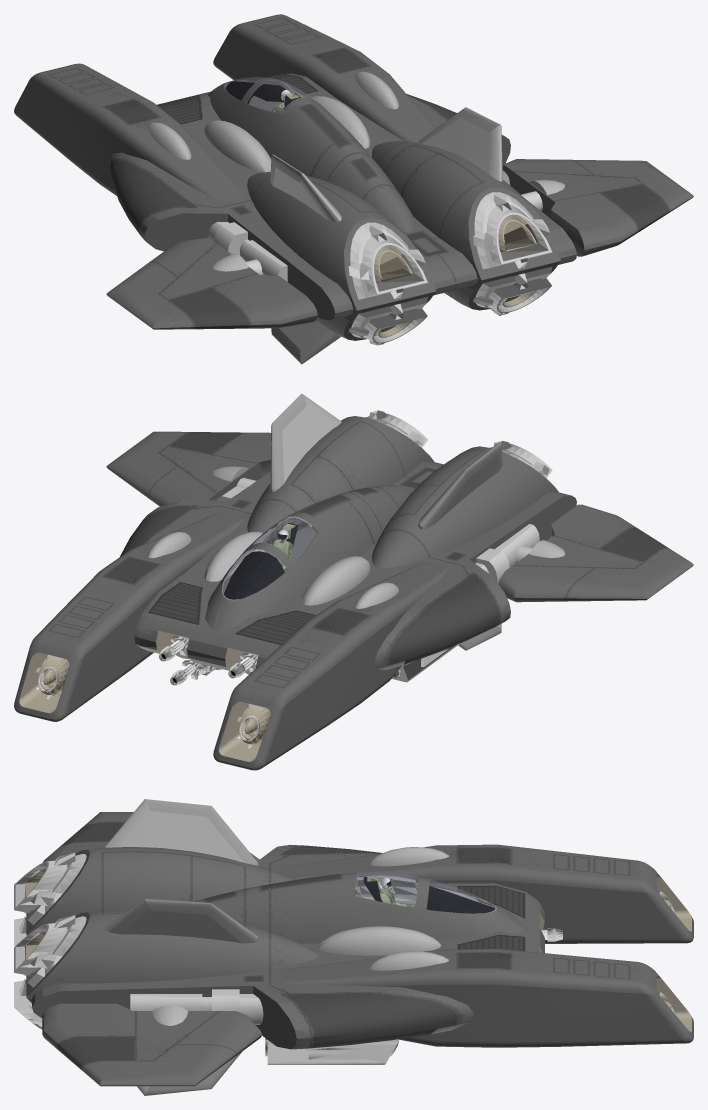
The model's file is demon.glb.
3 renders of one model, top to bottom at view 1: azimuth 30°, elevation 25°; view 2: azimuth 150°, elevation 25°; view 3: azimuth 270°, elevation 25°, orthographic. The views are drawn at different scales.
Parts seen in each view (by area): view 1: demon; view 2: demon; view 3: demon.
Boxes of the visible parts, x1,y1,x2,y2 form: demon: [14, 14, 693, 364]; demon: [14, 393, 693, 770]; demon: [14, 799, 693, 1095].
Bounding box in the file's own units: 660 × 223 × 697.
Materials: 20 (4 with a texture image).
